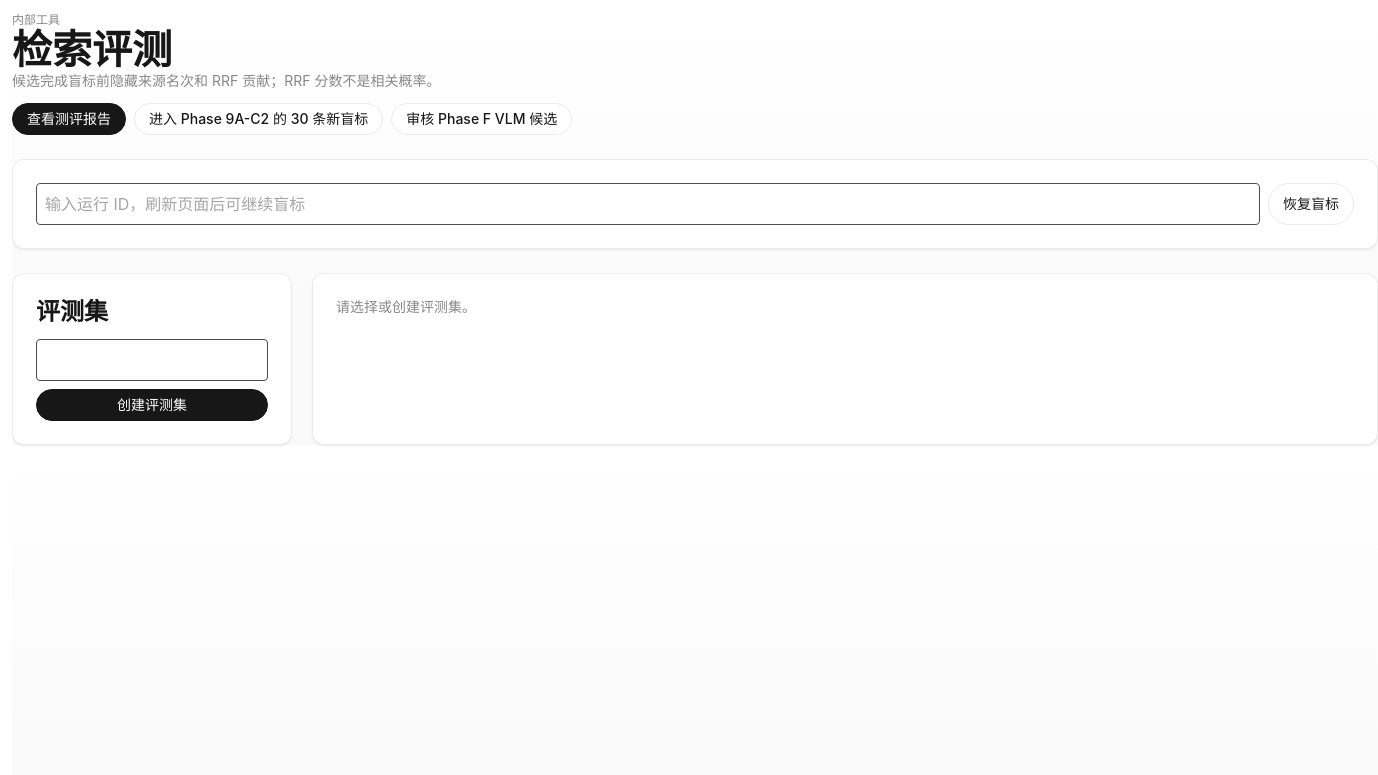
Scenario: evaluation workspace › restores an existing blind-labeling run by id after a page refresh
Type "df91d354-46e6-44e7-82bb-f0b16a92aea1" into the field named "评测运行 ID".
click(648, 204); type("df91d354-46e6-44e7-82bb-f0b16a92aea1")  # box [36,184,1260,226]
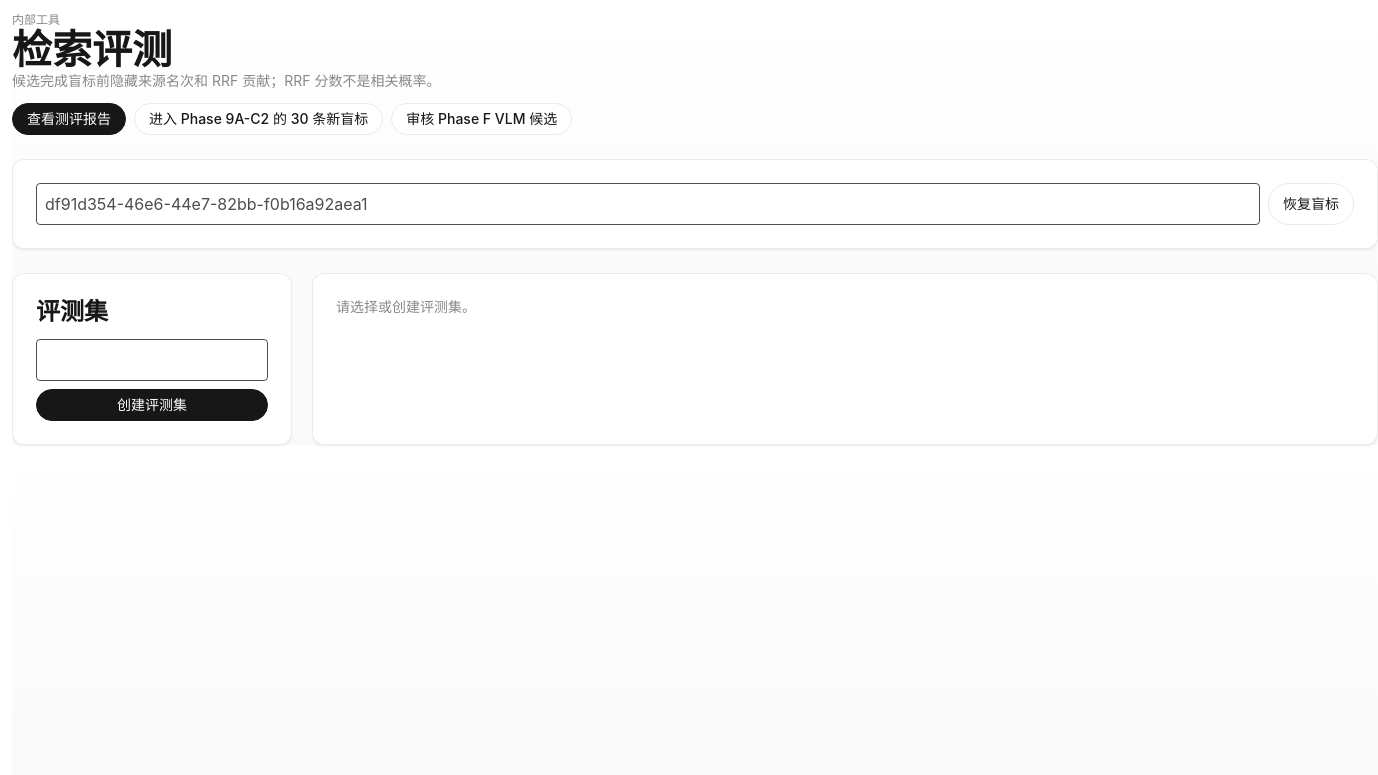
Click the button "恢复盲标".
click(1311, 204)  # box [1268,184,1354,226]
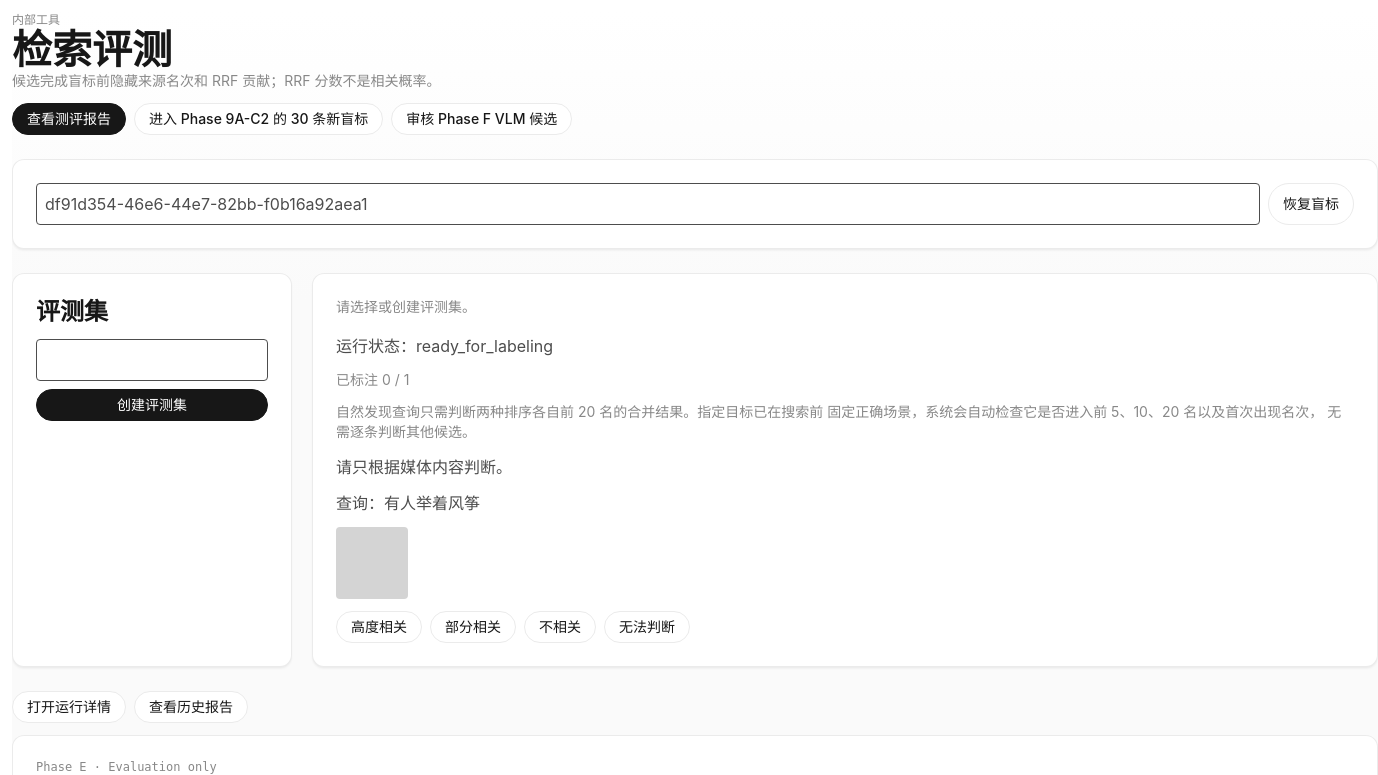
Result: the heading "运行状态：ready_for_labeling" is shown at [336,336,553,356]
Result: the text "查询：有人举着风筝" is shown at [336,493,480,513]
Result: the text "已标注 0 / 1" is shown at [336,371,409,388]
